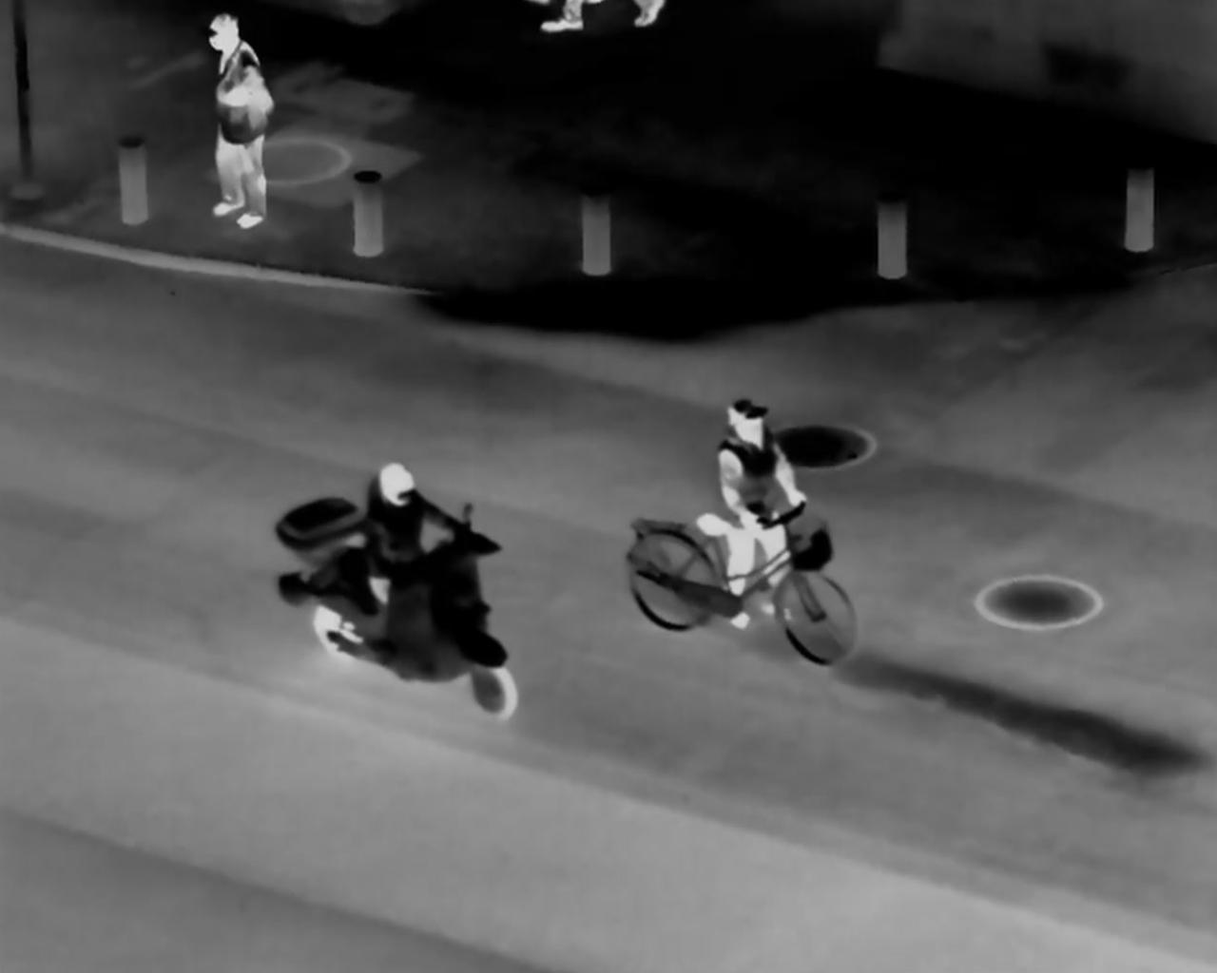person: (704, 385, 811, 629), (199, 15, 275, 249), (353, 457, 440, 627)
